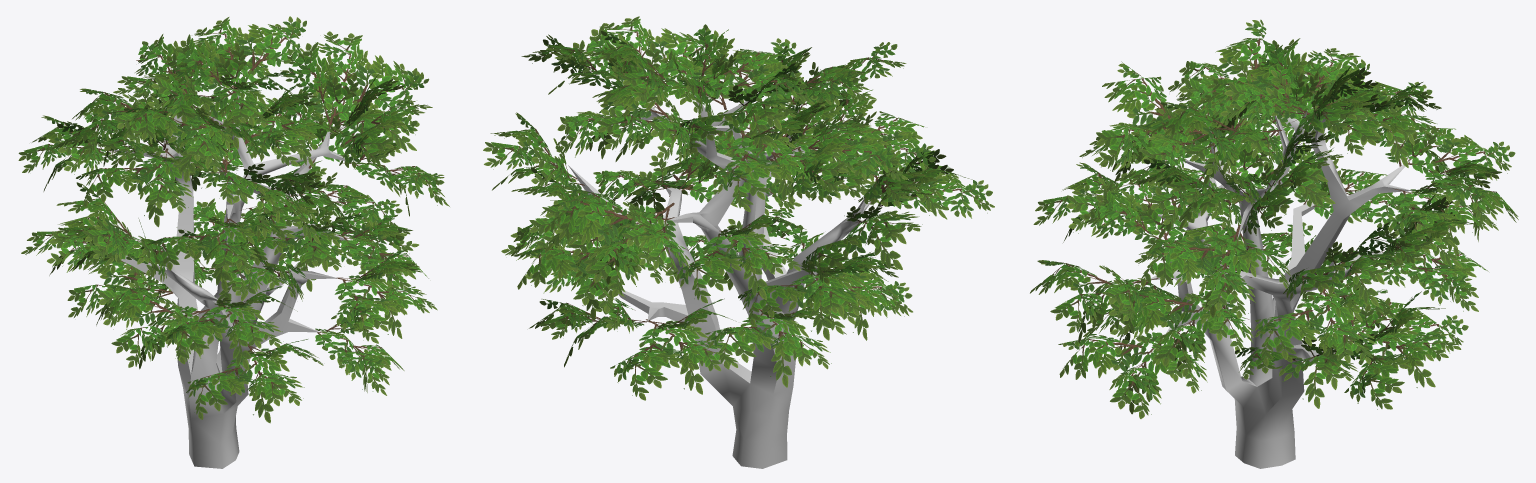
Rendered from P_Tree03.fbx.
3 views of the same model, side by side, from view 1: azimuth 30°, elevation 25°; view 2: azimuth 150°, elevation 25°; view 3: azimuth 270°, elevation 25° (orthographic). The views are drawn at different scales.
Visible parts, largest first — view 1: P_Tree03; view 2: P_Tree03; view 3: P_Tree03.
Boxes of the visible parts, box(x1,y1,x2,y2) form: P_Tree03: box(18, 16, 449, 468); P_Tree03: box(483, 16, 994, 468); P_Tree03: box(1030, 19, 1518, 468).
Bounding box in the file's own units: 491 × 471 × 509.
